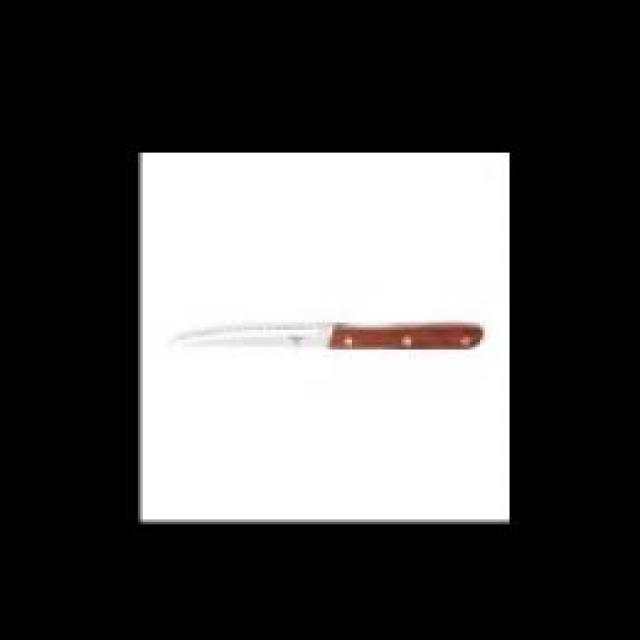knife: (164, 320, 490, 357)
